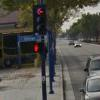Car: (78, 49, 100, 100)
